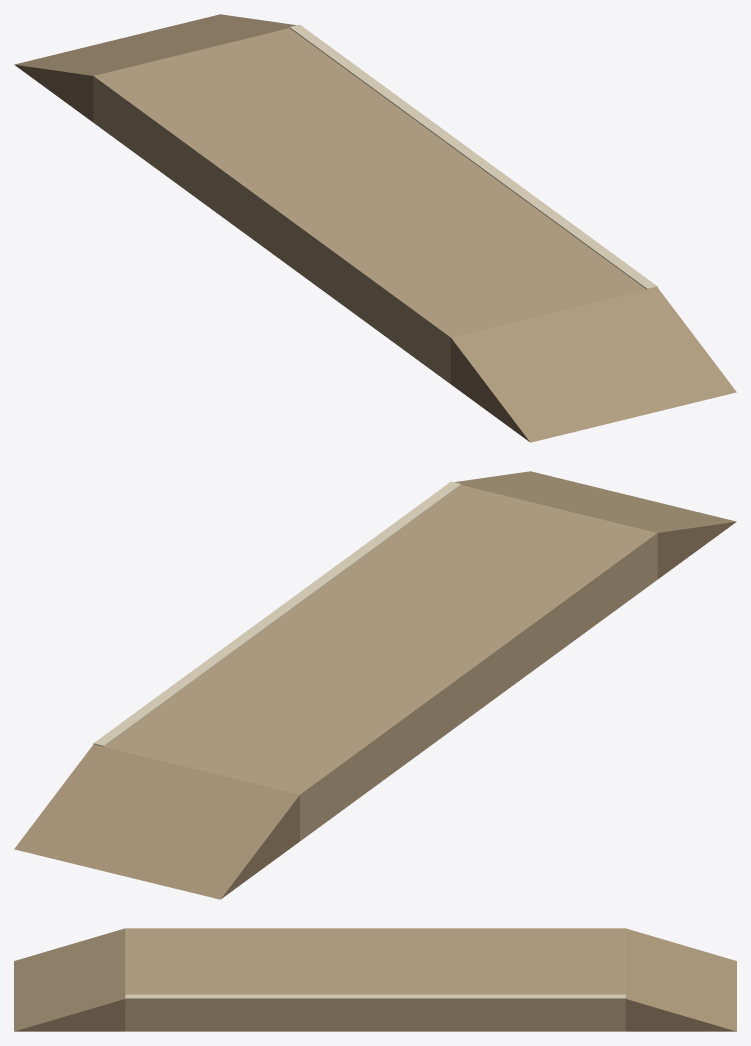
Rendered from halt_platform.glb.
3 views of the same model, one above another, from view 1: azimuth 30°, elevation 25°; view 2: azimuth 150°, elevation 25°; view 3: azimuth 270°, elevation 25° (orthographic). The views are drawn at different scales.
Parts seen in each view (by area): view 1: Body; view 2: Body; view 3: Body.
Part boxes in pixels (x1=…): Body: x1=14, y1=14, x2=736, y2=442; Body: x1=14, y1=471, x2=736, y2=899; Body: x1=14, y1=928, x2=736, y2=1031.
Size of the model in its own units: 6 by 1.33 by 26.
